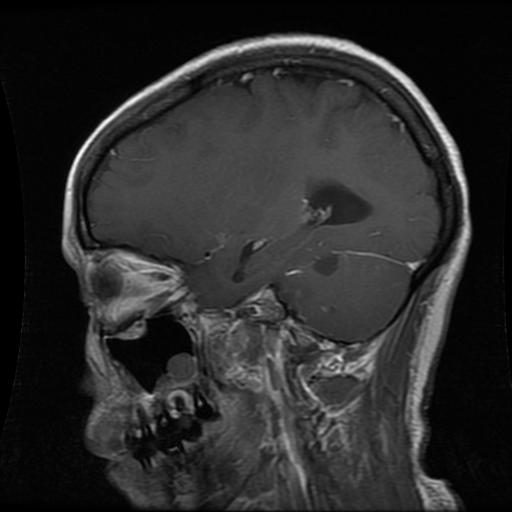Gliomia_tumour: (315, 252, 337, 274)
